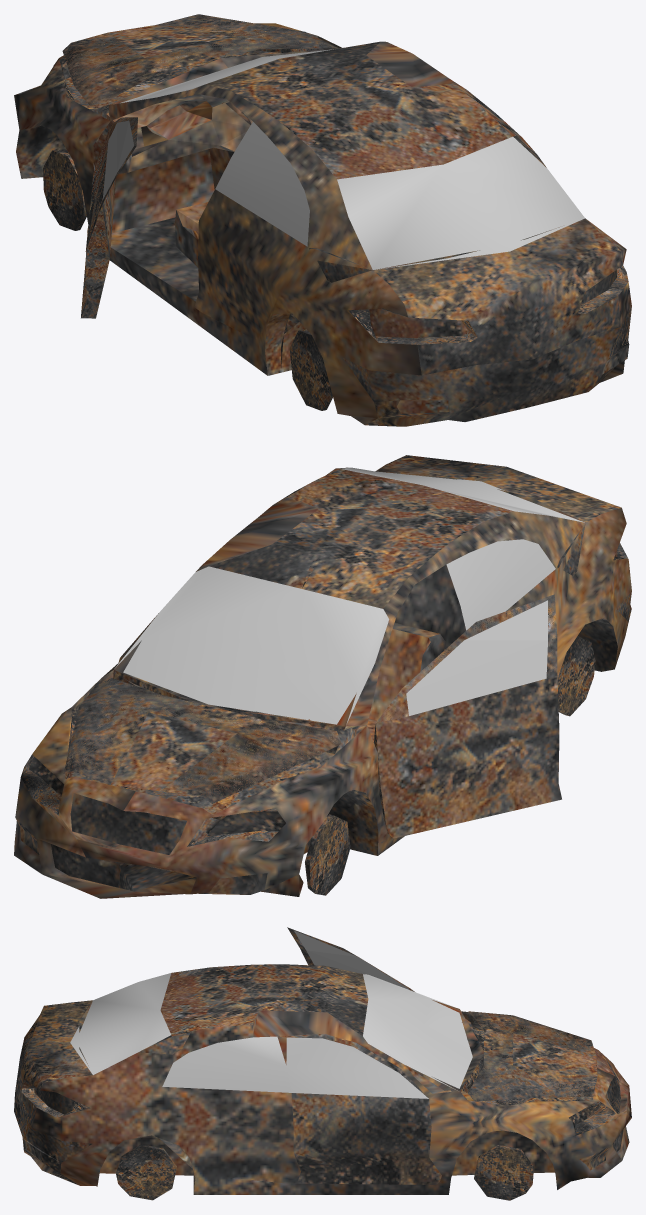
The model's file is Car_rust1_LOD2.fbx.
3 views of the same model, one above another, from view 1: azimuth 30°, elevation 25°; view 2: azimuth 150°, elevation 25°; view 3: azimuth 270°, elevation 25° (orthographic). The views are drawn at different scales.
Parts seen in each view (by area): view 1: polySurface1303; view 2: polySurface1303; view 3: polySurface1303.
Boxes of the visible parts, x1=… form: polySurface1303: x1=14, y1=14, x2=631, y2=426; polySurface1303: x1=14, y1=455, x2=631, y2=898; polySurface1303: x1=14, y1=927, x2=631, y2=1200.
Bounding box in the file's own units: 3.07 × 1.67 × 5.87.
